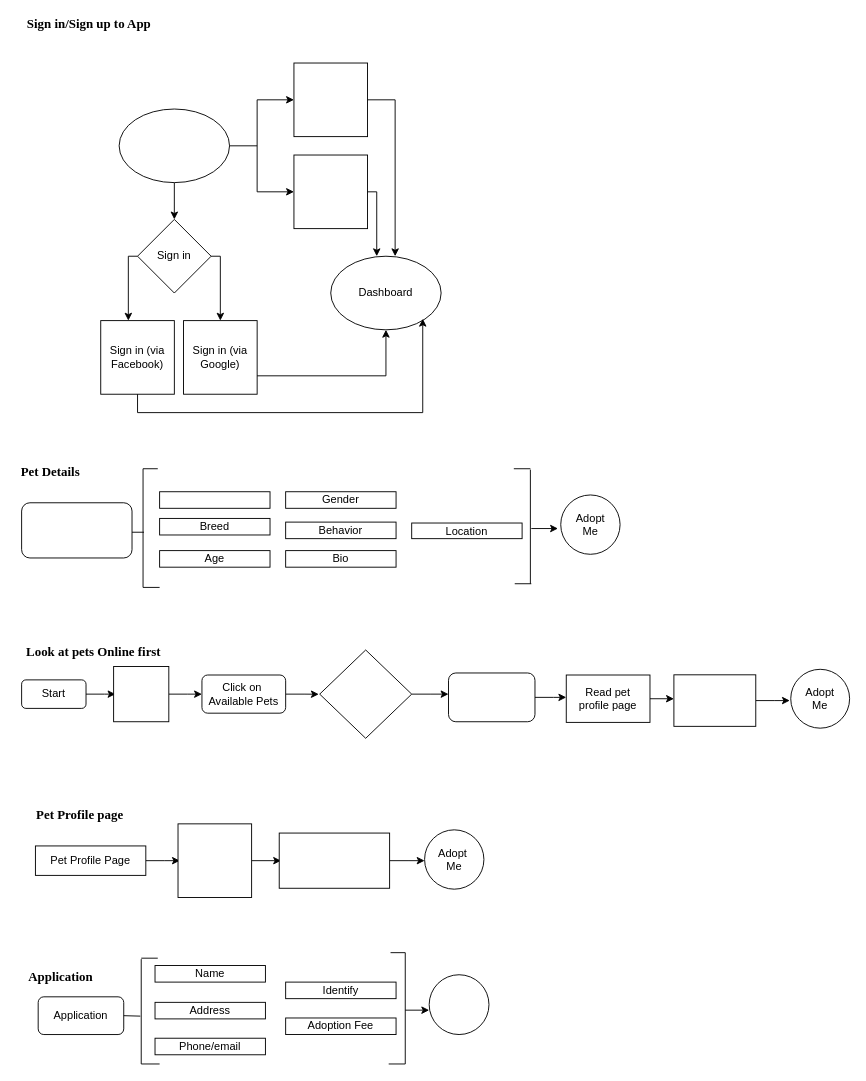
Image size: 866x1081. Some labels were removed from this diagram. The centre of each missing label's shape, as x and y in pixels:
"Click on specific interested pets" belongs at point 491,697.
"Interested in any of the pets" belongs at point 365,693.
"Landing" belongs at point 174,145.
"Landing Page" belongs at point 141,694.
"Meets pet and plays with it" belongs at point 714,700.
"Pet Description Page" belongs at point 334,860.
"Pet Detail" belongs at point 76,530.
"Photos" belongs at point 214,499.
"Send" belongs at point 458,1004.
"Sign Up (via Facebook)" belongs at point 330,99.
"Sign Up (via Google" belongs at point 330,191.
"User can click Favorite pet Profile" belongs at point 214,860.
